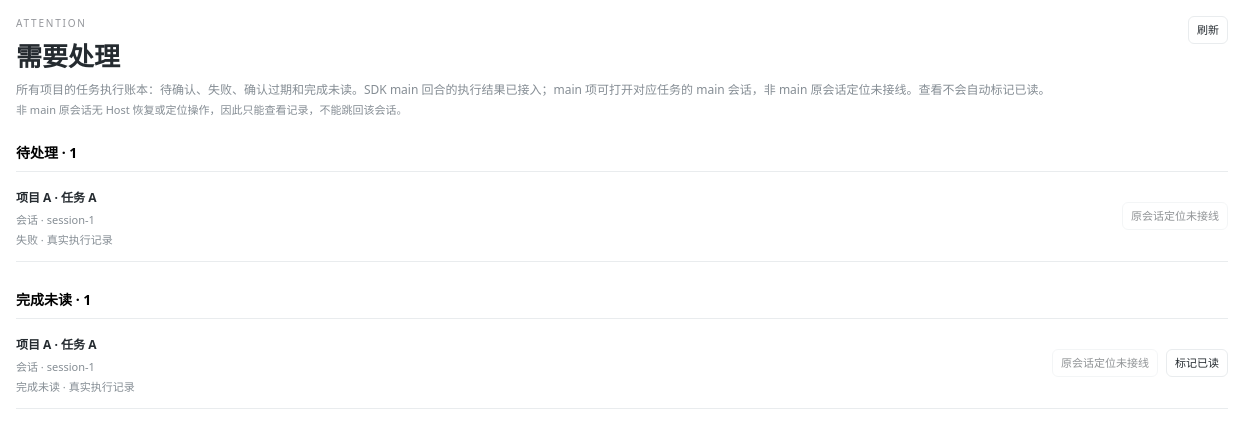
clears only a completed-unread item after verified Host acknowledgement
Expected: the heading "完成未读 · 1" is shown, [16,290,91,308]
Click the button "标记已读" at coordinates (1197, 363), box [1166,349,1228,377]
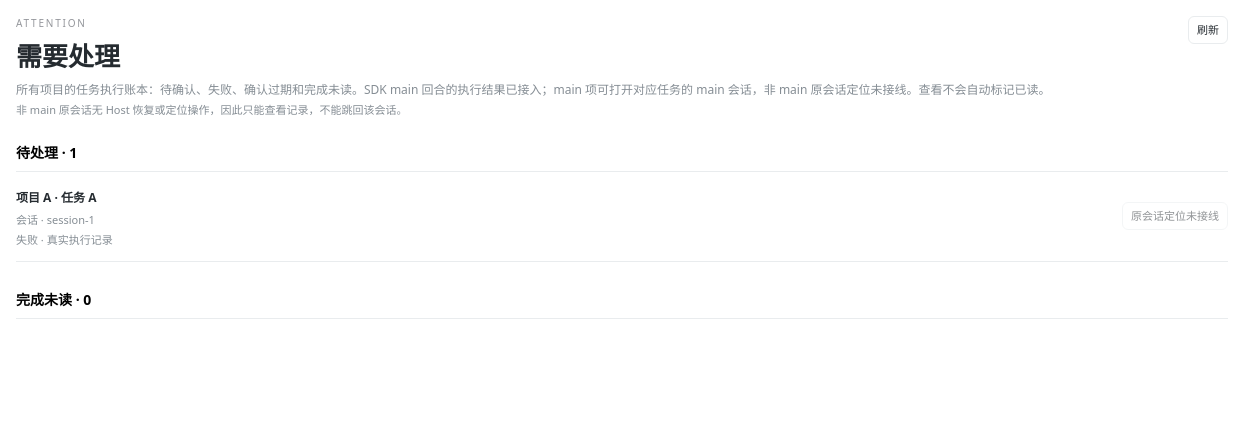
Expected: the heading "待处理 · 1" is shown, [16,142,77,162]
Now the heading "完成未读 · 0" is shown, box [16,290,91,308]
